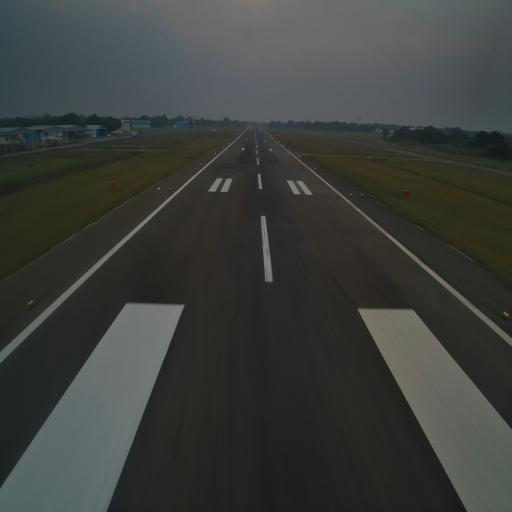on: (25, 294, 35, 310), (502, 307, 512, 321), (168, 186, 172, 192), (349, 192, 352, 197), (158, 185, 160, 192), (361, 192, 363, 197)
